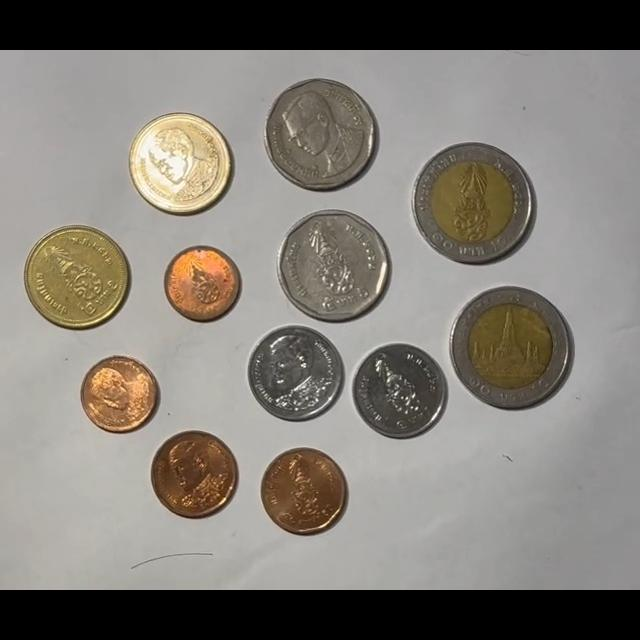1-baht: (247, 325, 343, 421), (352, 343, 447, 439)
10-baht: (449, 286, 572, 409), (412, 142, 535, 263)
2-baht: (24, 225, 129, 330), (128, 112, 233, 216)
25-satang: (81, 355, 159, 433), (164, 245, 241, 321)
5-baht: (264, 77, 379, 191), (277, 210, 391, 322)
50-satang: (151, 431, 238, 518), (260, 448, 347, 535)
